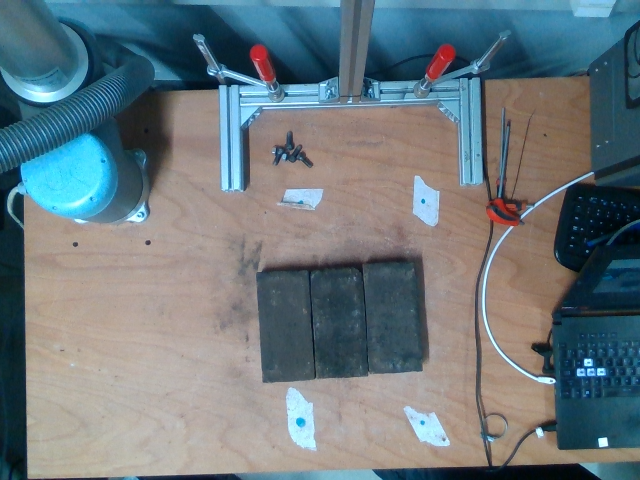brick: (363, 261, 423, 375), (309, 266, 369, 379), (256, 270, 314, 383)
